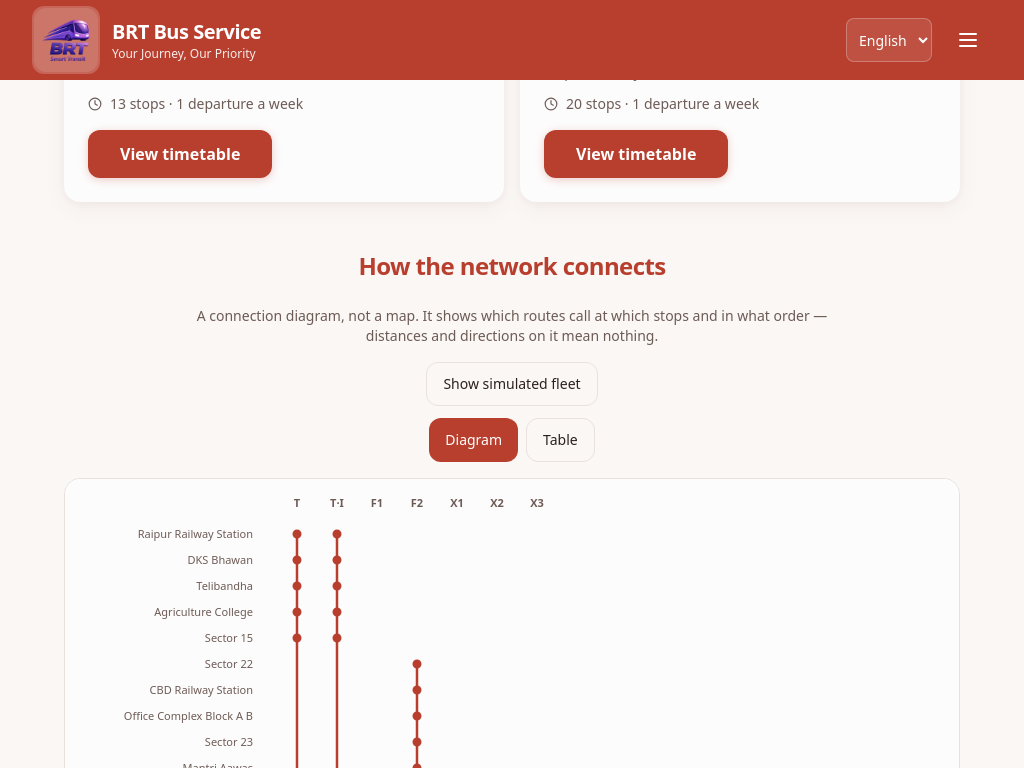
Test: showing a fleet that does not exist › says on the page that the buses are not real
(page scrolled)
Click the button "Show simulated fleet" at x=512, y=384, box [426, 362, 598, 406]
(page scrolled)
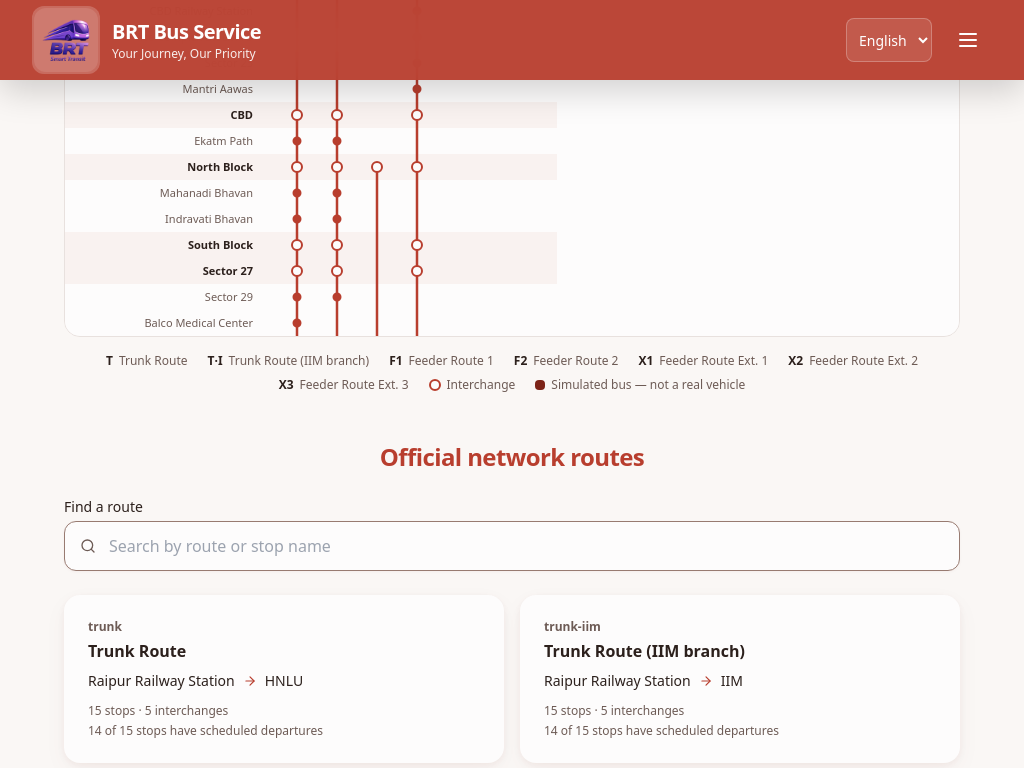
Now the list item "Simulated bus — not a real vehicle" is shown, box [535, 377, 745, 393]
